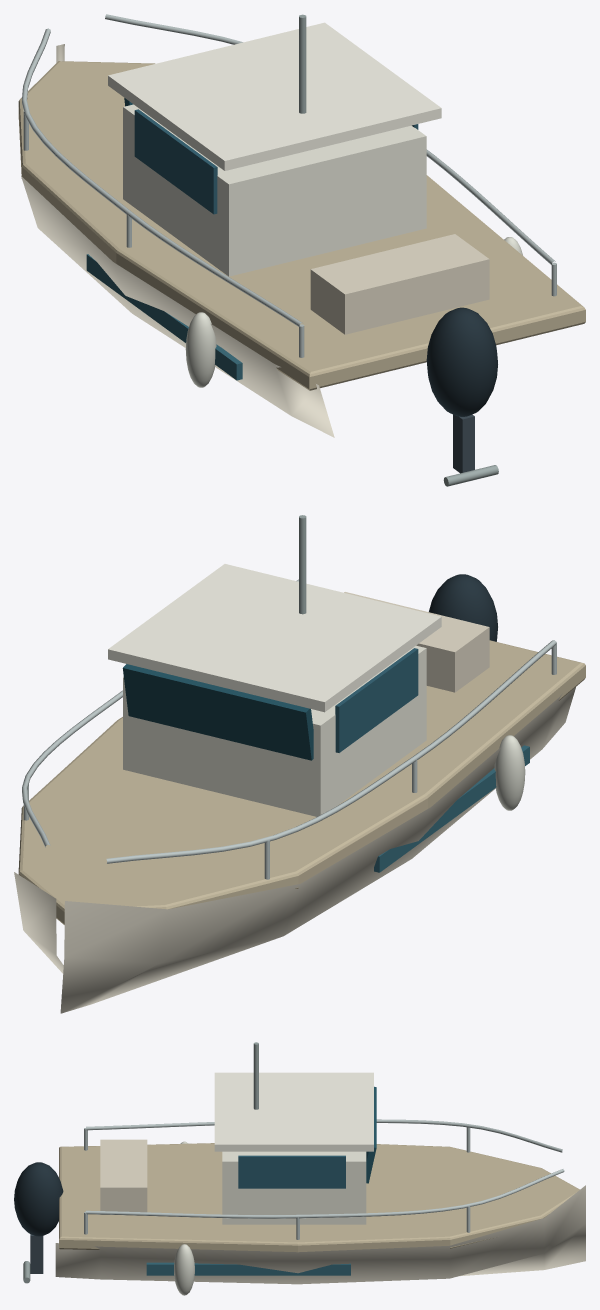
File: boat.glb
The picture shows the model from 3 angles, top to bottom: view 1: azimuth 30°, elevation 25°; view 2: azimuth 150°, elevation 25°; view 3: azimuth 270°, elevation 25°; orthographic projection. The views are drawn at different scales.
Visible parts, largest first — view 1: Deck, Cabin, Roof, SternSeat, VHull, Outboard, SafetyRailAssembly, SideWindowAssembly, FenderAssembly, HullStripeAssembly, EngineLeg, Mast; view 2: Deck, Roof, VHull, Cabin, Windshield, SafetyRailAssembly, SideWindowAssembly, SternSeat, Outboard, FenderAssembly, HullStripeAssembly, Mast; view 3: Deck, VHull, Roof, Cabin, SafetyRailAssembly, SideWindowAssembly, SternSeat, Outboard, HullStripeAssembly, FenderAssembly, EngineLeg, Windshield (+1 smaller).
Boxes of the visible parts, x1,y1,x2,y2 form: Deck: (18, 61, 585, 390); Cabin: (123, 104, 426, 276); Roof: (108, 22, 441, 170); SternSeat: (310, 234, 489, 334); VHull: (21, 44, 334, 437); Outboard: (426, 307, 497, 416); SafetyRailAssembly: (22, 14, 556, 357); SideWindowAssembly: (134, 109, 418, 214); FenderAssembly: (185, 237, 522, 387); HullStripeAssembly: (86, 254, 242, 380); EngineLeg: (453, 414, 474, 473); Mast: (299, 14, 306, 113); Deck: (18, 640, 585, 924); Roof: (108, 564, 441, 712); VHull: (14, 687, 575, 1013); Cabin: (123, 645, 426, 816); Windshield: (122, 664, 313, 760); SafetyRailAssembly: (22, 579, 556, 879); SideWindowAssembly: (335, 648, 418, 752); SternSeat: (344, 592, 489, 692); Outboard: (429, 574, 497, 641); FenderAssembly: (494, 735, 525, 810); HullStripeAssembly: (374, 745, 529, 872); Mast: (299, 515, 306, 614); Deck: (59, 1143, 579, 1252); VHull: (55, 1185, 585, 1284); Roof: (214, 1072, 373, 1151); Cabin: (222, 1151, 366, 1224); SafetyRailAssembly: (84, 1119, 564, 1239); SideWindowAssembly: (238, 1155, 345, 1188); SternSeat: (100, 1139, 147, 1214); Outboard: (14, 1162, 63, 1236); HullStripeAssembly: (146, 1262, 350, 1275); FenderAssembly: (174, 1141, 194, 1295); EngineLeg: (30, 1234, 43, 1273); Windshield: (366, 1086, 376, 1183).
Size of the model in its own units: 3.48 by 3.4 by 7.55.
